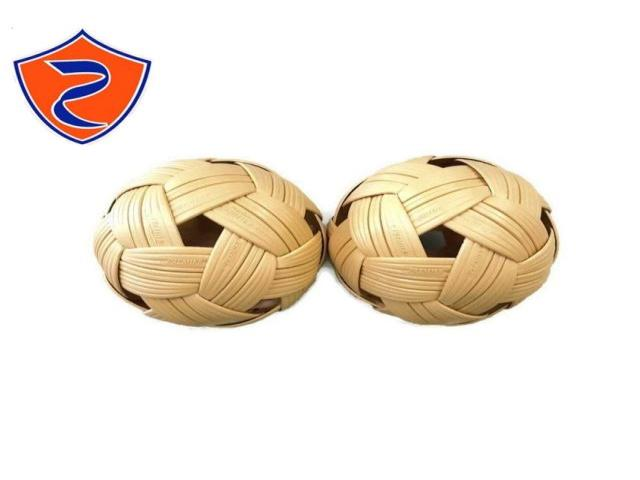round ball: (95, 160, 325, 326), (329, 157, 556, 324)
